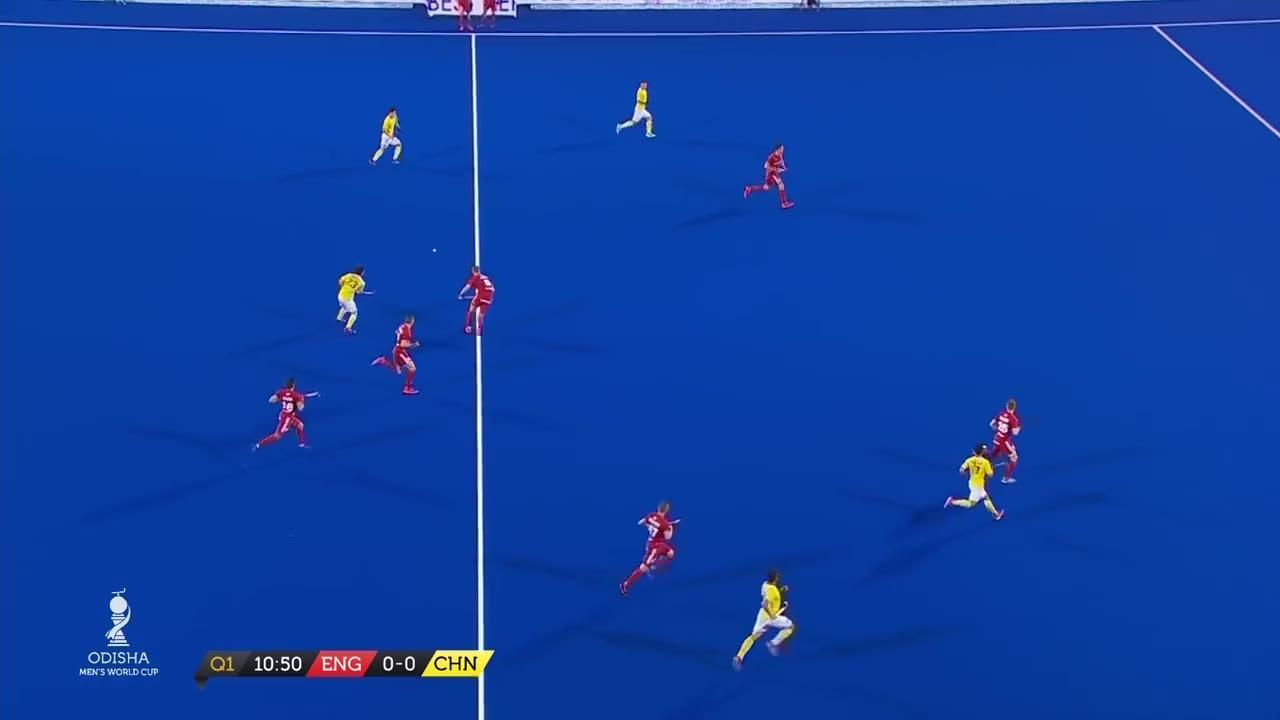ball: (430, 245, 440, 256)
